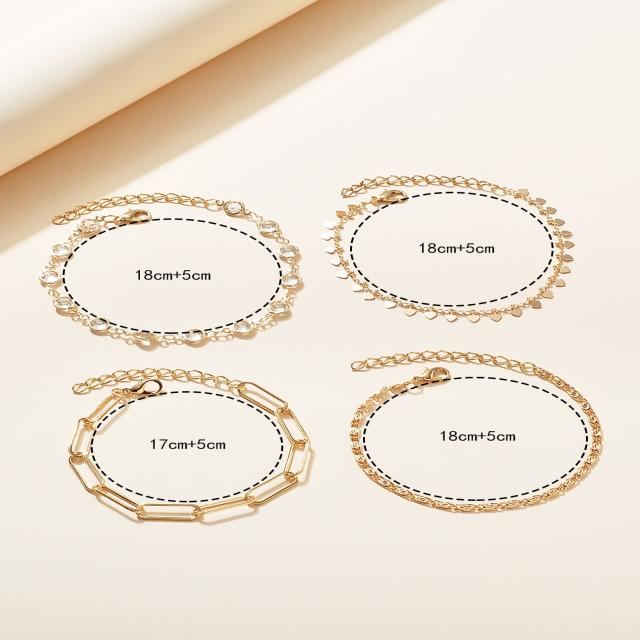bracelet: (7, 104, 330, 361), (300, 317, 624, 558), (301, 130, 637, 352), (0, 337, 327, 562)
